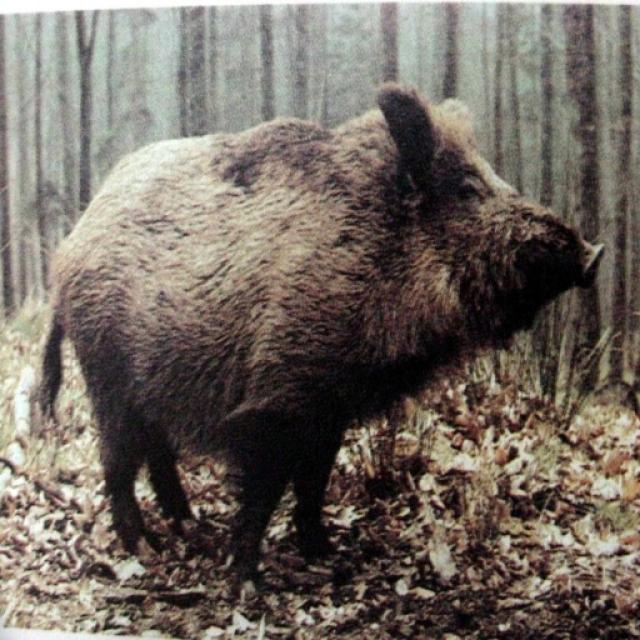pig: (11, 34, 588, 616)
